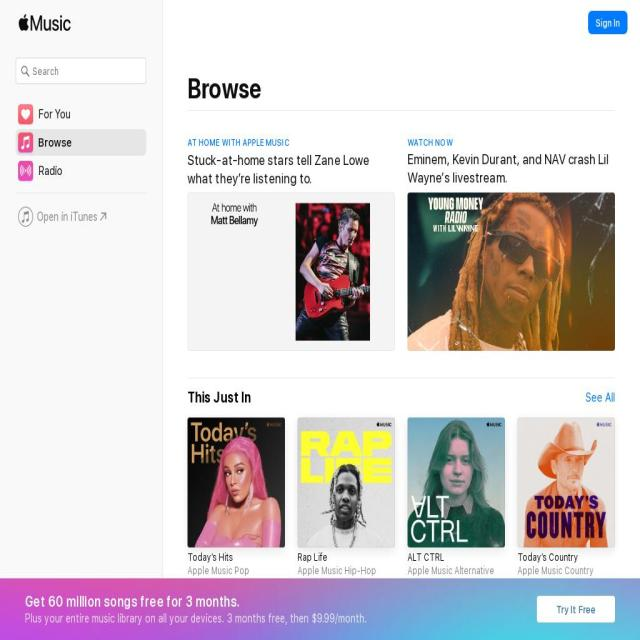button: (16, 193, 146, 239), (16, 158, 146, 184), (16, 130, 146, 155), (16, 102, 146, 126), (537, 596, 615, 622), (588, 11, 628, 34), (15, 16, 70, 31)
field: (16, 58, 146, 84)
heading: (187, 615, 615, 634), (188, 388, 586, 408), (407, 150, 615, 187), (187, 151, 395, 187), (187, 72, 262, 105), (627, 150, 640, 186)
image: (187, 192, 395, 352), (407, 192, 615, 352), (187, 418, 285, 548), (297, 418, 395, 548), (407, 418, 505, 548), (517, 418, 615, 548), (627, 192, 640, 351), (627, 417, 640, 548), (18, 14, 70, 31), (18, 206, 33, 227), (18, 104, 33, 124), (18, 132, 33, 152), (18, 161, 33, 181), (100, 212, 106, 220)
link: (187, 551, 285, 565), (297, 551, 395, 565), (407, 551, 505, 565), (517, 551, 615, 565), (586, 390, 615, 406), (627, 551, 640, 565)
text: (25, 592, 524, 611), (25, 611, 524, 626), (187, 138, 395, 148), (407, 138, 615, 148), (38, 133, 144, 152), (38, 105, 144, 123), (38, 162, 144, 180), (187, 564, 285, 578), (297, 564, 395, 578), (407, 564, 505, 578), (517, 564, 615, 578), (37, 208, 97, 224), (596, 15, 620, 30), (627, 564, 640, 578), (627, 137, 640, 148)
